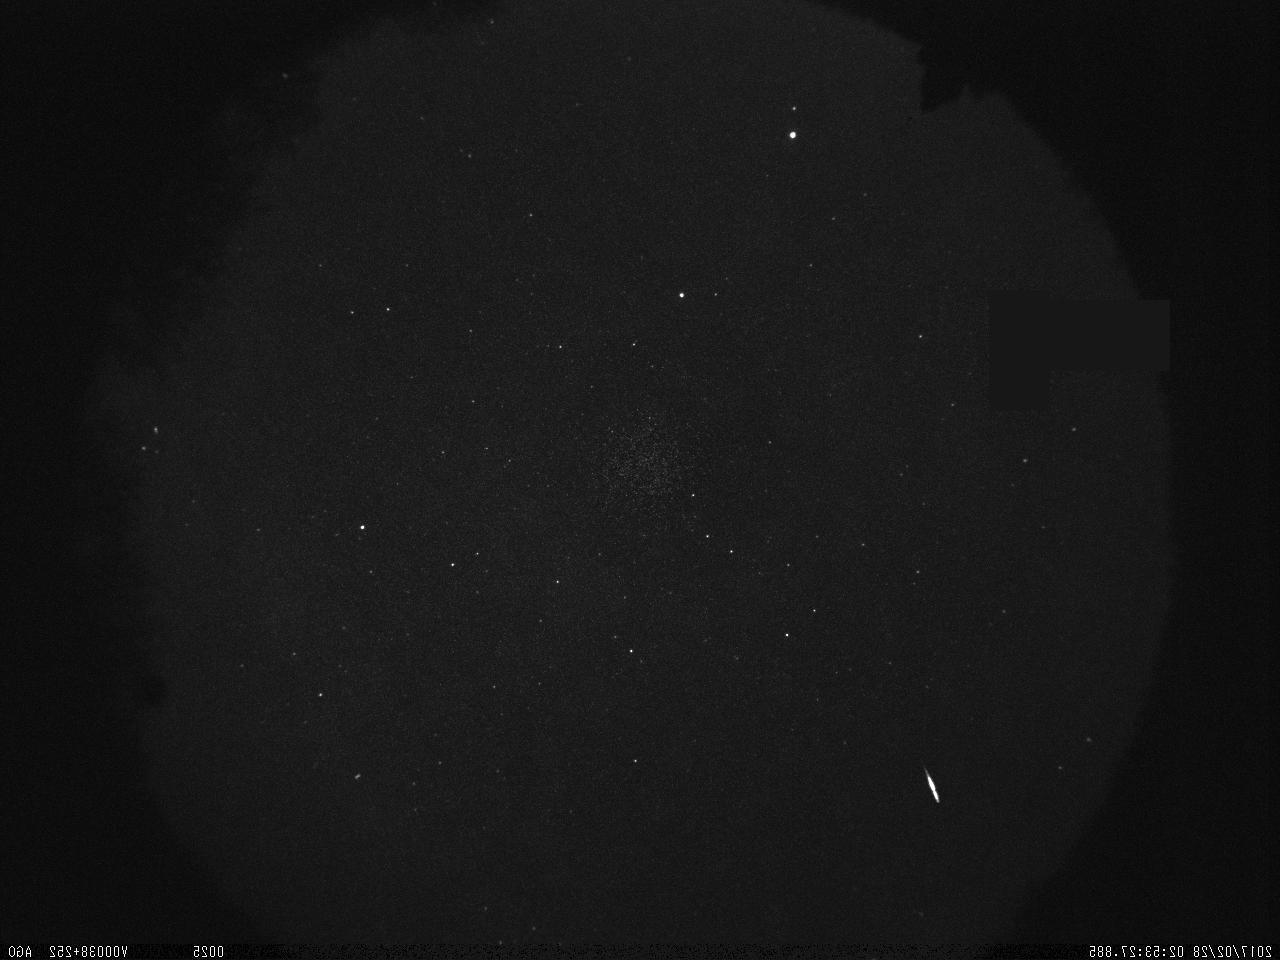meteor: (909, 748, 952, 818)
